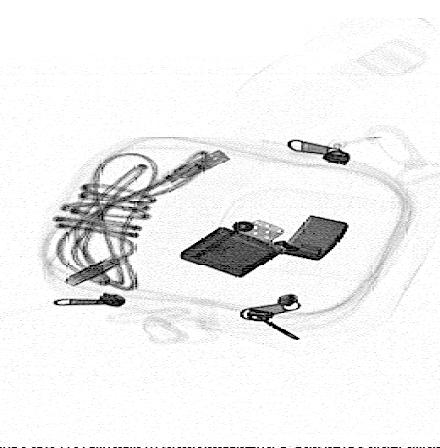Lighter: (178, 214, 352, 279)
